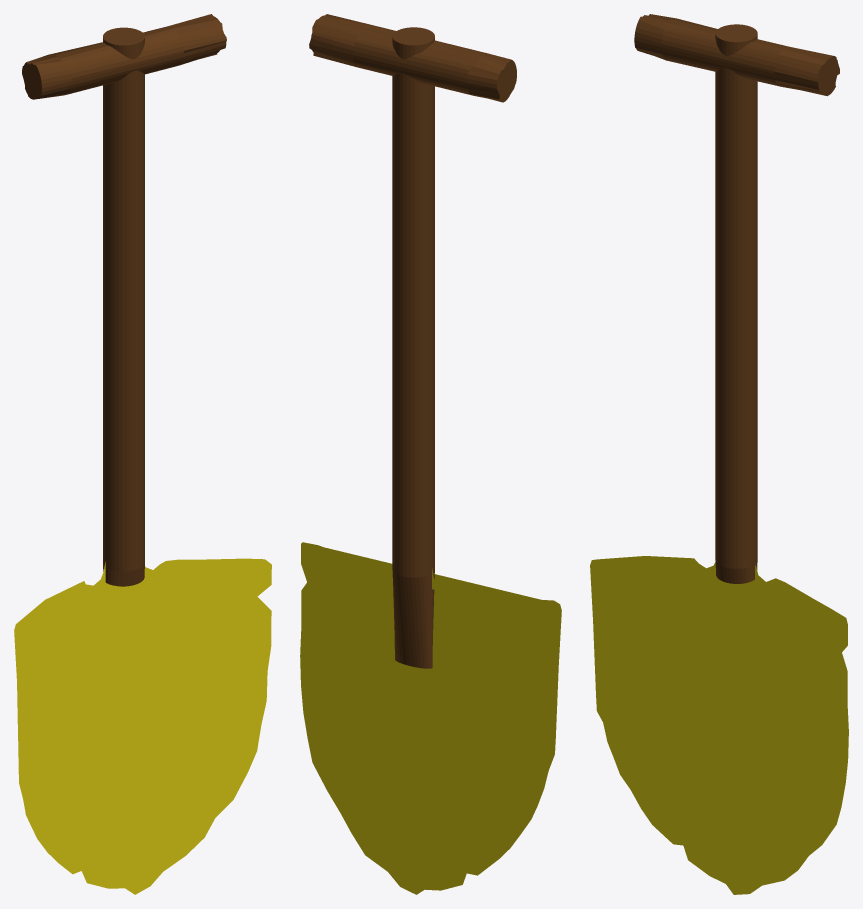
The model's file is Shovel.fbx.
3 renders of one model, left to right at view 1: azimuth 30°, elevation 25°; view 2: azimuth 150°, elevation 25°; view 3: azimuth 330°, elevation 25°, orthographic.
Parts seen in each view (by area): view 1: Head, Handle, Handle.001; view 2: Head, Handle, Handle.001; view 3: Head, Handle, Handle.001.
Boxes of the visible parts, x1,y1,x2,y2 form: Head: [14, 558, 271, 894]; Handle: [103, 27, 144, 586]; Handle.001: [22, 14, 226, 99]; Head: [300, 542, 561, 894]; Handle: [392, 27, 434, 668]; Handle.001: [309, 14, 516, 102]; Head: [590, 556, 848, 894]; Handle: [715, 24, 757, 583]; Handle.001: [634, 14, 839, 96].
Bounding box in the file's own units: 18.6 × 58.92 × 3.7.
